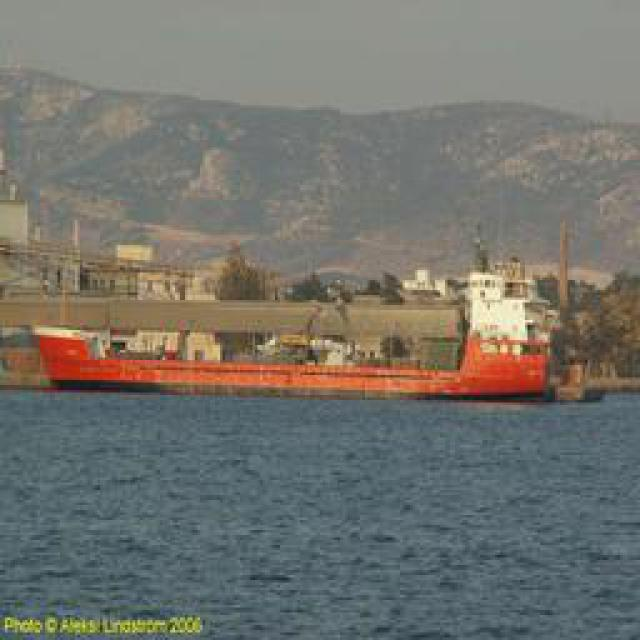Ship: (42, 321, 570, 401)
